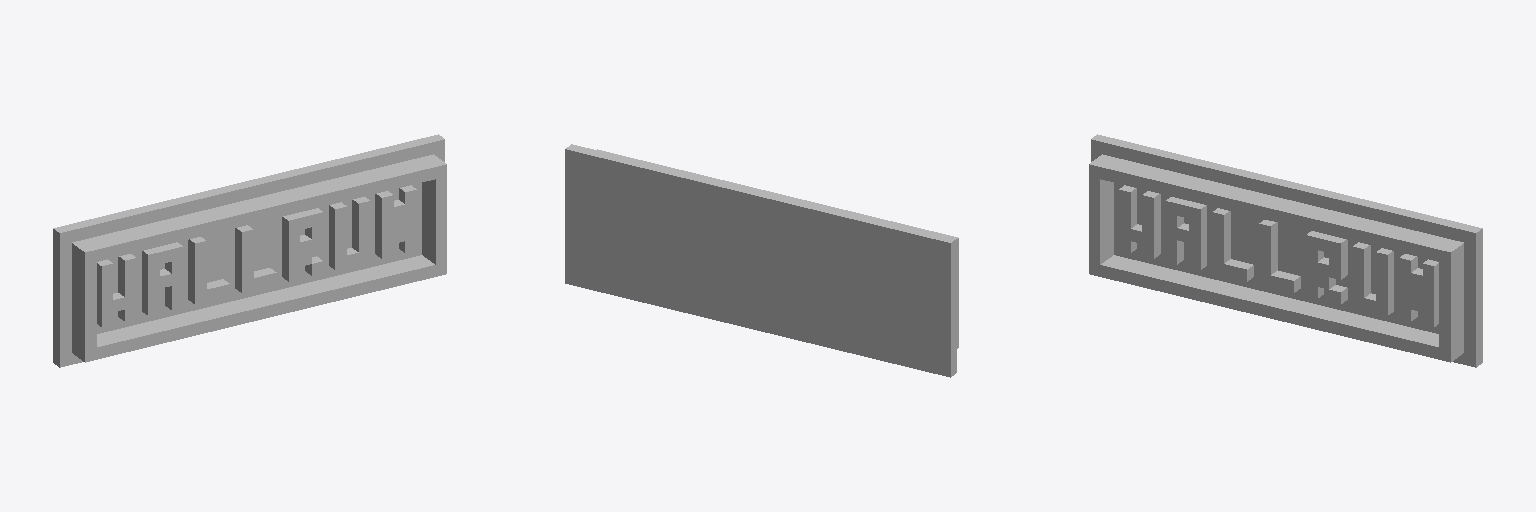
The model's file is WALLRUN.obj.
3 renders of one model, left to right at view 1: azimuth 30°, elevation 25°; view 2: azimuth 150°, elevation 25°; view 3: azimuth 330°, elevation 25°, orthographic.
Visible parts, largest first — view 1: object 1; view 2: object 1; view 3: object 1.
Part boxes in pixels (x1,y1,x2,y2): object 1: (53, 134, 446, 367); object 1: (565, 144, 958, 377); object 1: (1089, 134, 1482, 367).
Bounding box in the file's own units: 3.3 × 1.1 × 0.3.